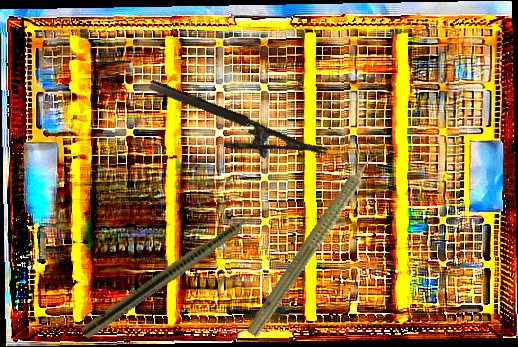Handpiece: (242, 138, 393, 343), (80, 199, 274, 342)
Needle Holder: (138, 77, 329, 184)
